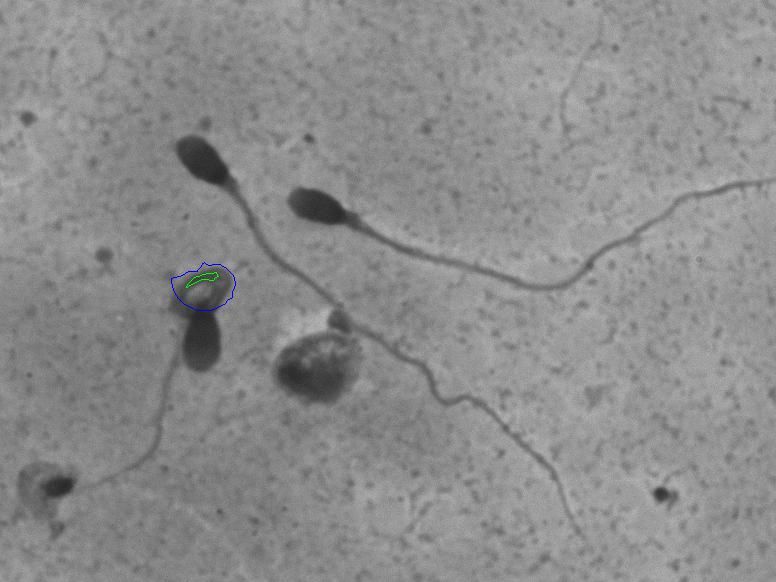Abnormal: (81, 255, 243, 511)
Normal: (159, 118, 610, 559), (277, 164, 769, 316)
